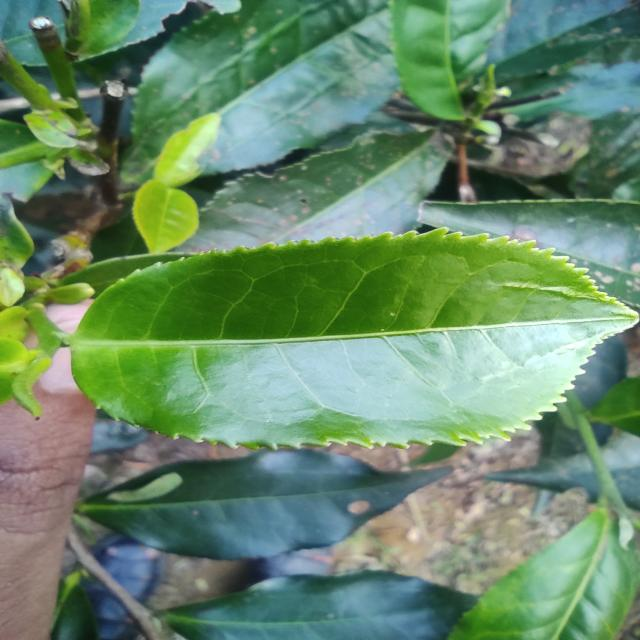Category C 4-7 days: (28, 195, 640, 489)
